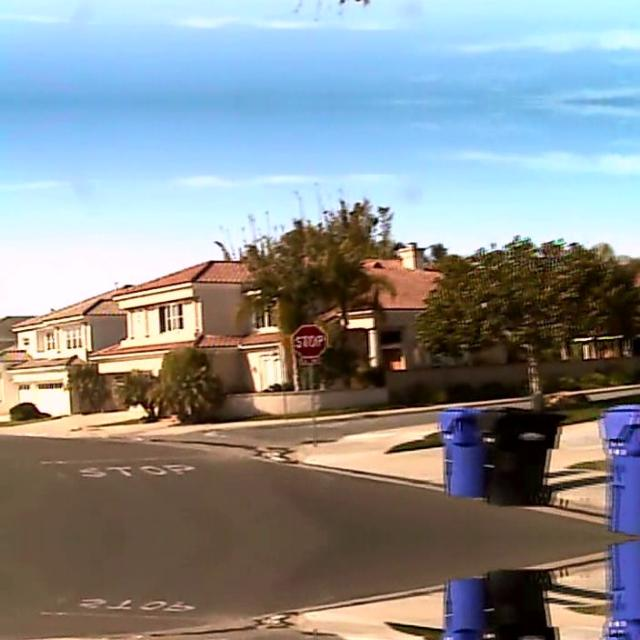stop: (290, 323, 328, 357)
